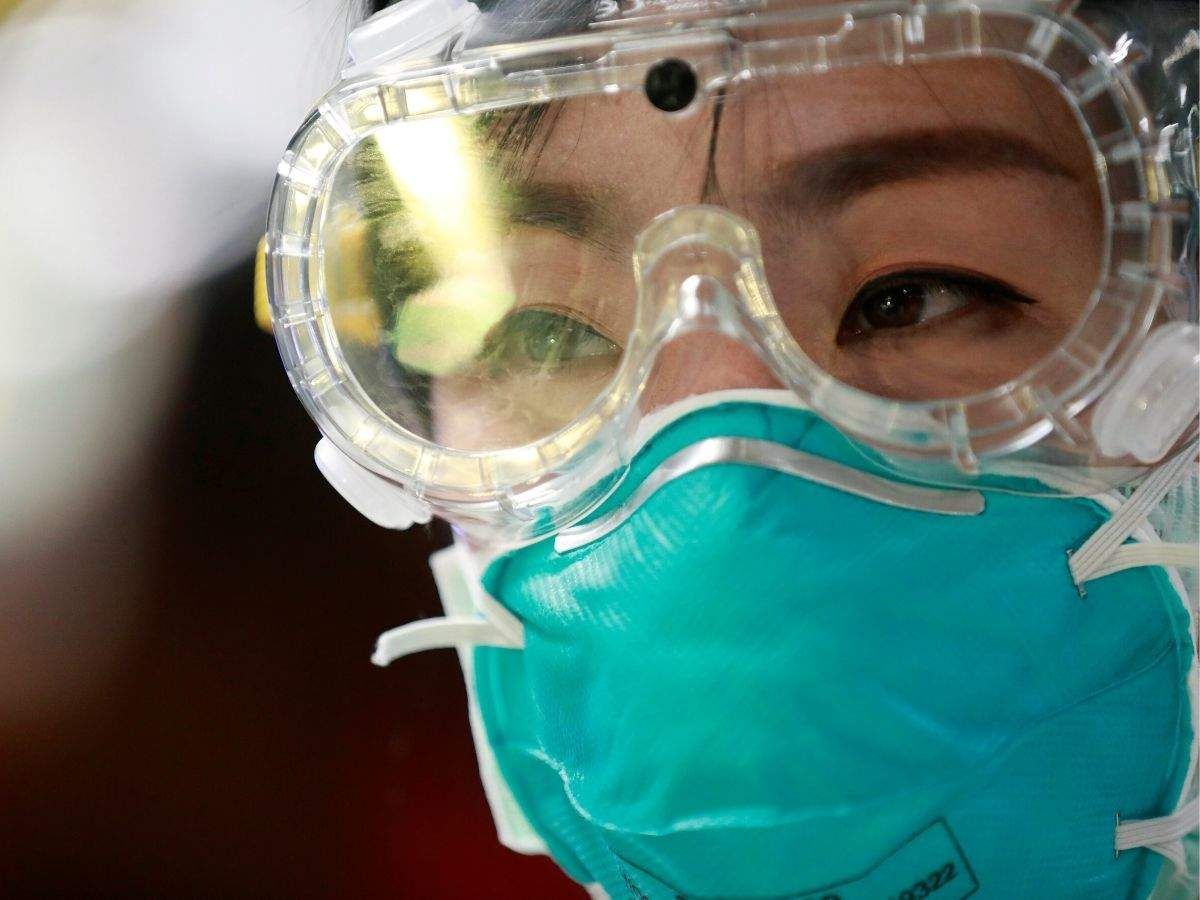n95: (450, 379, 1197, 882)
